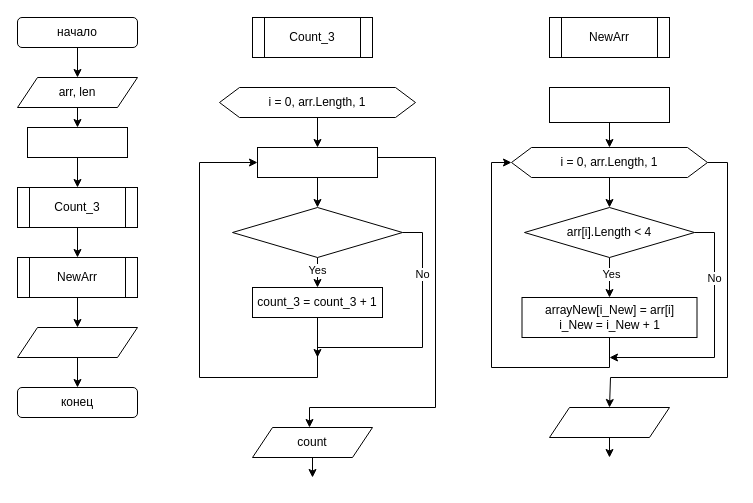
This 753x503 diagram has some shape labels left out. Each missing label, with the centre of its shape:
arrayNew: point 609,422
arrNew: point 77,342
count_3 = 0: point 77,142
i_New = 0: point 609,104
k < 4: point 317,232
k = arr[i].Length: point 317,162
